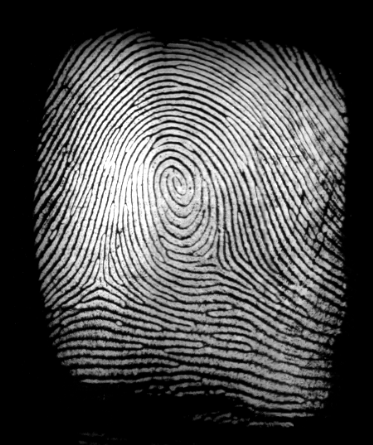nucelo: (148, 161, 207, 209)
verticilo: (82, 260, 119, 303), (199, 244, 228, 273)
